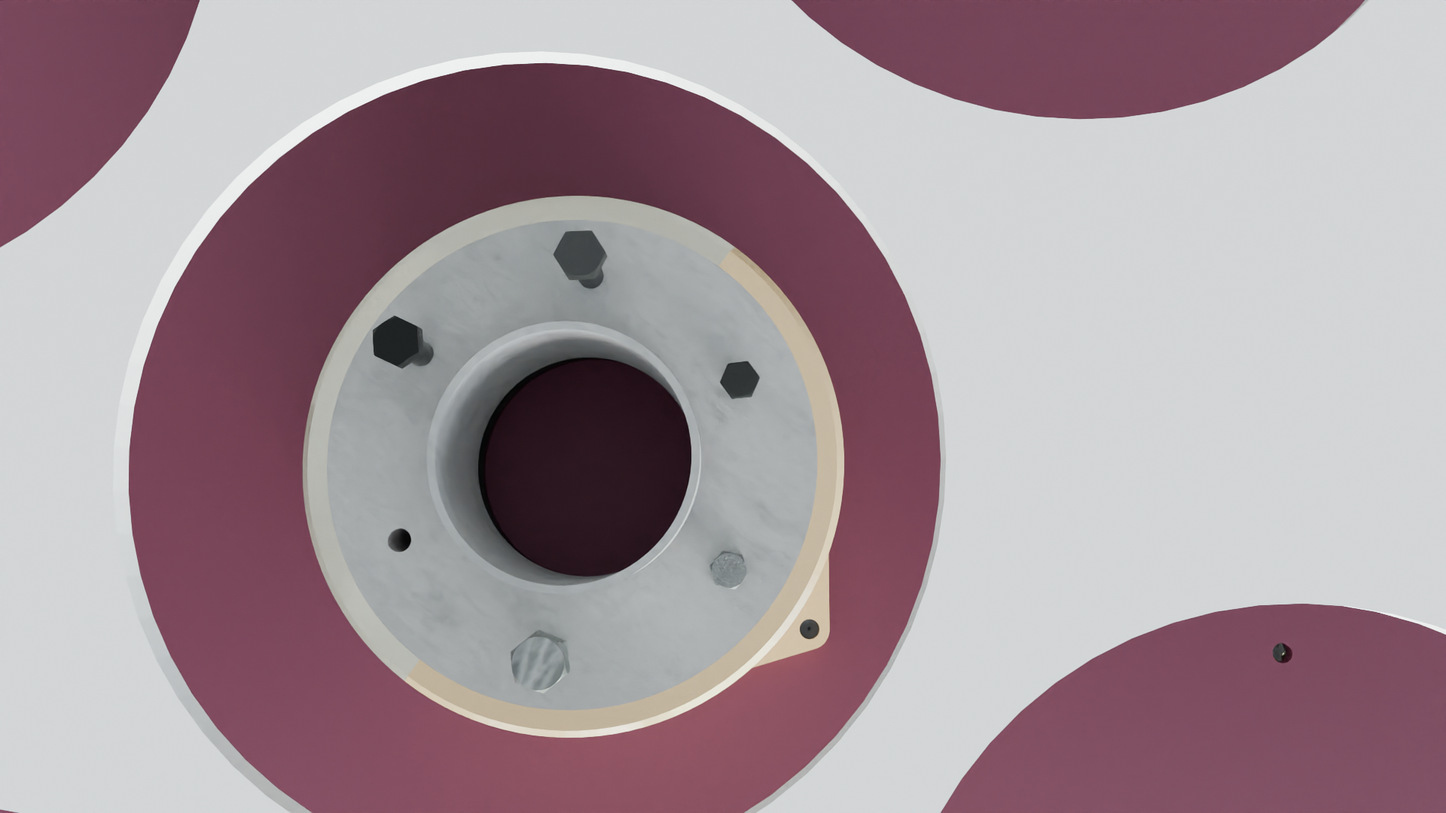bolt: (511, 632, 567, 693), (554, 230, 606, 276), (373, 315, 419, 367), (709, 551, 749, 589), (720, 361, 760, 397)
